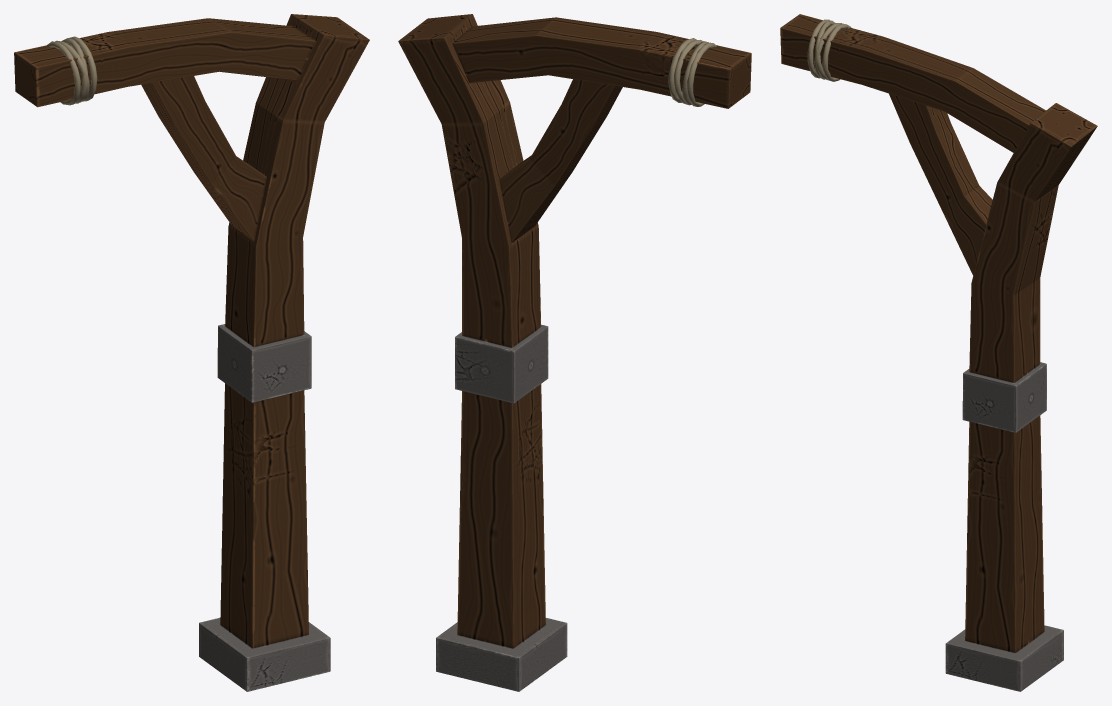
File: ZiplinePost.fbx
3 views of the same model, side by side, from view 1: azimuth 30°, elevation 25°; view 2: azimuth 150°, elevation 25°; view 3: azimuth 330°, elevation 25° (orthographic). The views are drawn at different scales.
Parts seen in each view (by area): view 1: ZipLinePost_LOD0; view 2: ZipLinePost_LOD0; view 3: ZipLinePost_LOD0.
Boxes of the visible parts, box(x1,y1,x2,y2) form: ZipLinePost_LOD0: box(14, 14, 369, 691); ZipLinePost_LOD0: box(398, 14, 751, 691); ZipLinePost_LOD0: box(780, 14, 1097, 691).
Size of what is drawn, in the model's own units: 122 by 237 by 30.91.
